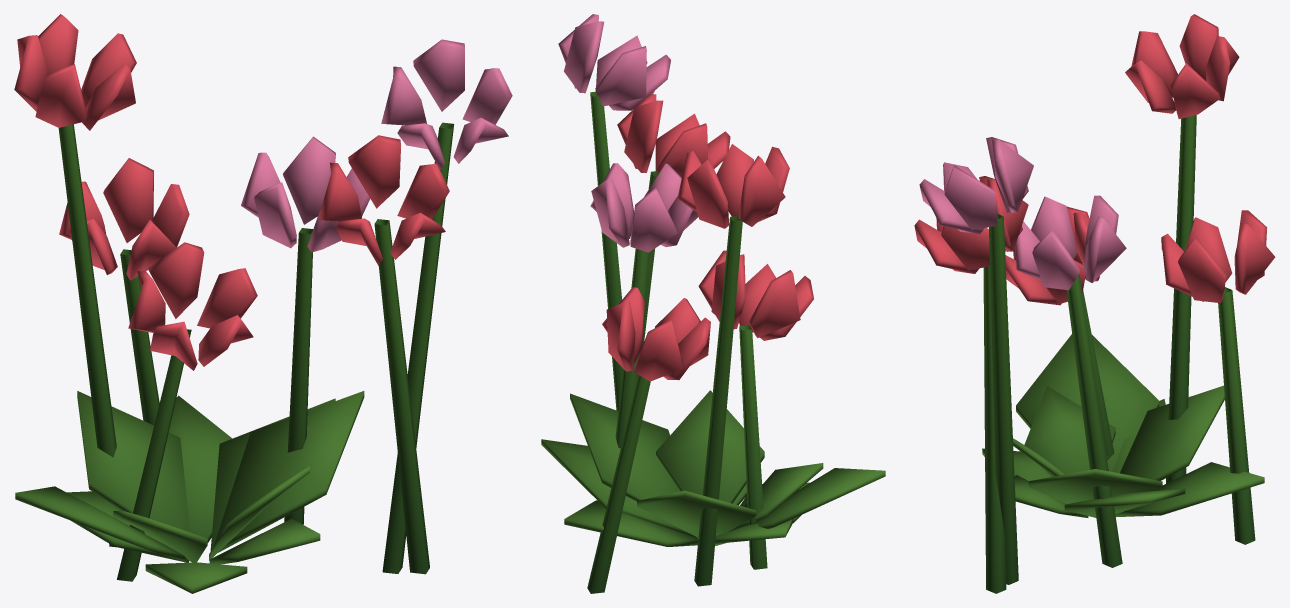
File: flowers_tulip_lod1.glb
3 renders of one model, left to right at view 1: azimuth 30°, elevation 25°; view 2: azimuth 150°, elevation 25°; view 3: azimuth 270°, elevation 25°, orthographic. The views are drawn at different scales.
Visible parts, largest first — view 1: flowers_tulip_lod1; view 2: flowers_tulip_lod1; view 3: flowers_tulip_lod1.
Part boxes in pixels (x1,y1,x2,y2): flowers_tulip_lod1: (14, 14, 512, 593); flowers_tulip_lod1: (541, 14, 885, 593); flowers_tulip_lod1: (914, 14, 1275, 593).
Size of the model in its own units: 0.4616 by 0.5395 by 0.3835.
